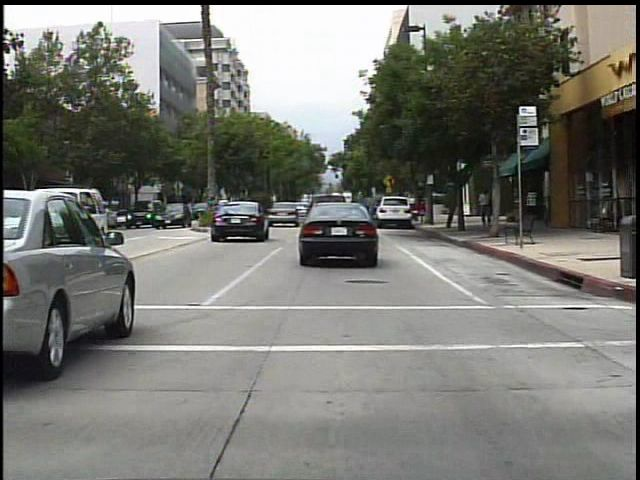person: (477, 184, 497, 228)
